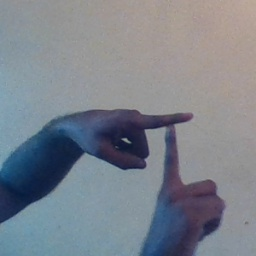T: (126, 96, 210, 206)
